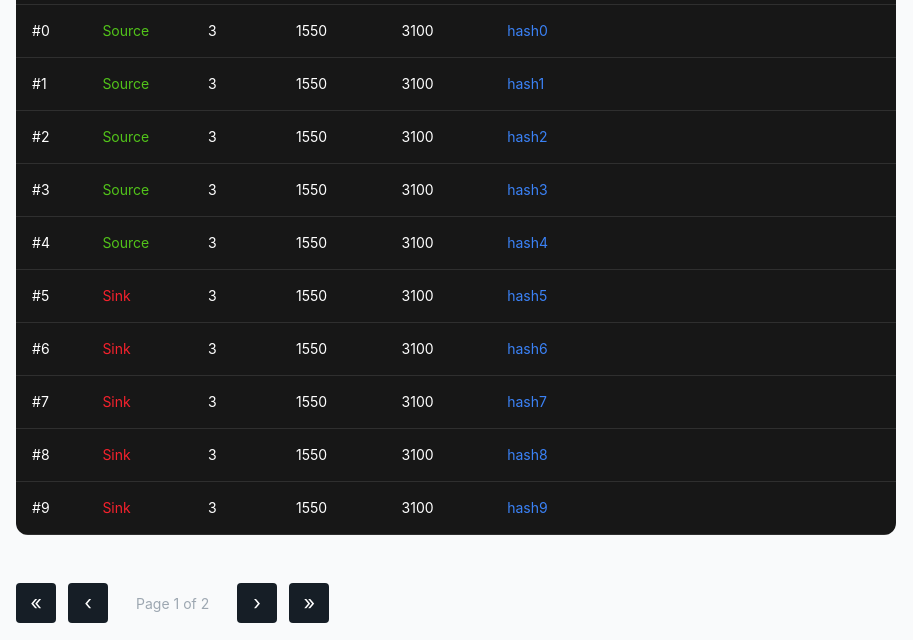
BlocksList › handles pagination correctly
(page scrolled)
Expected: the text "Page 1 of 2" is shown, [136, 592, 209, 614]
Go to next page
Click the button "›": click(257, 603) [237, 583, 277, 623]
(page scrolled)
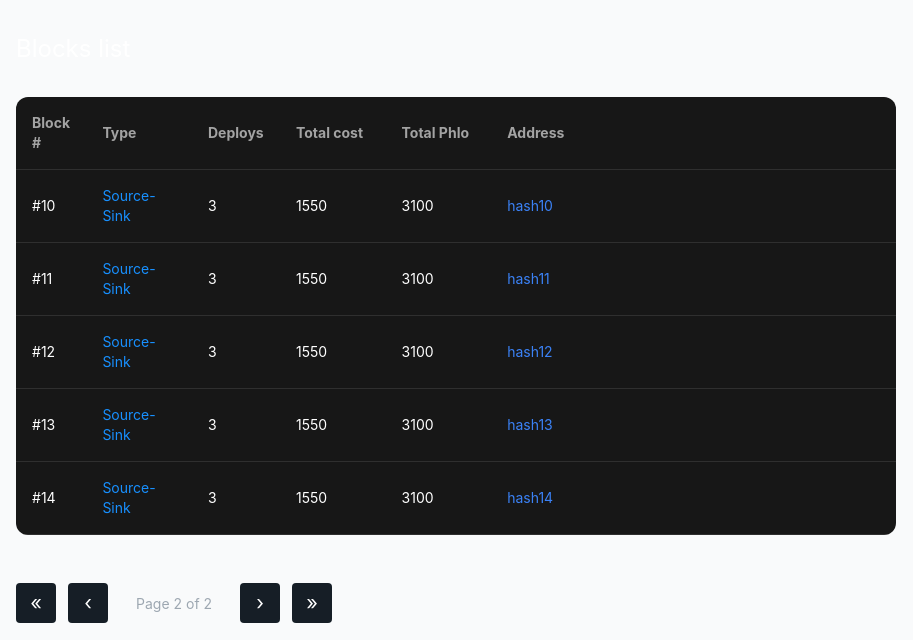
Now the text "Page 2 of 2" is shown, box [136, 592, 212, 614]
Go back to first page
Click the button "«": click(36, 603) [16, 583, 56, 623]
(page scrolled)
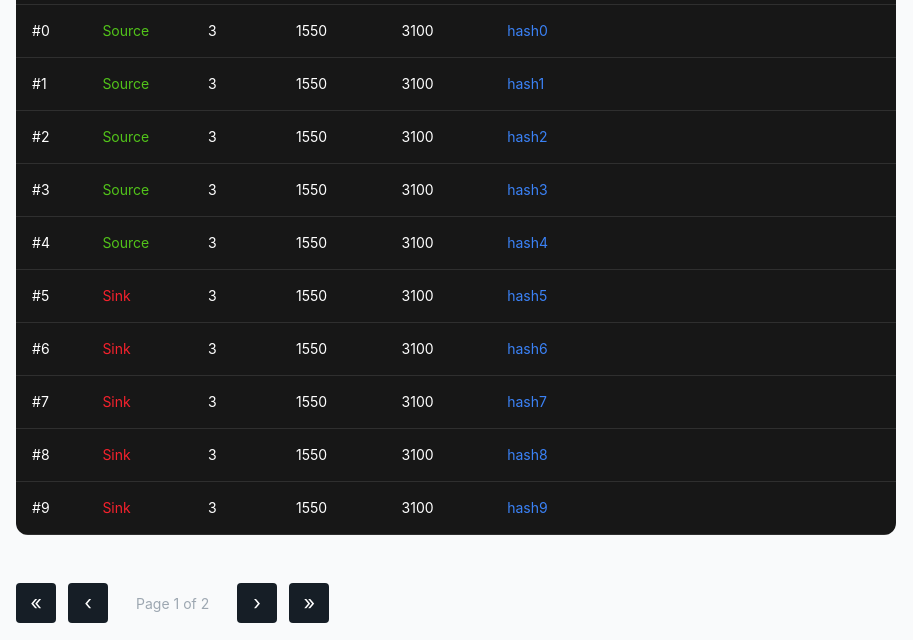
Now the text "Page 1 of 2" is shown, box [136, 592, 209, 614]
Go to last page
Click the button "»": click(309, 603) [289, 583, 329, 623]
(page scrolled)
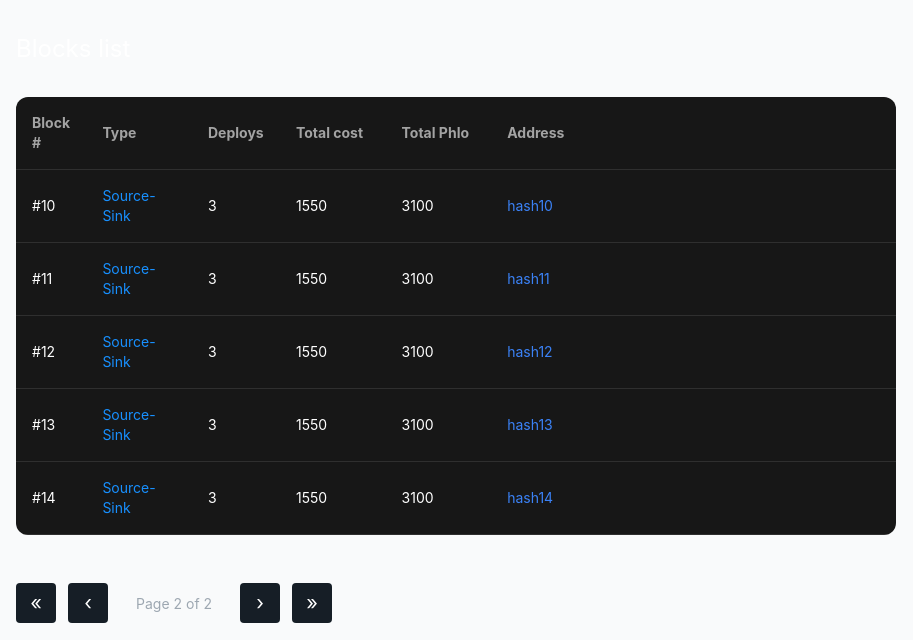
Now the text "Page 2 of 2" is shown, box [136, 592, 212, 614]
Go to previous page
Click the button "‹": click(88, 603) [68, 583, 108, 623]
(page scrolled)
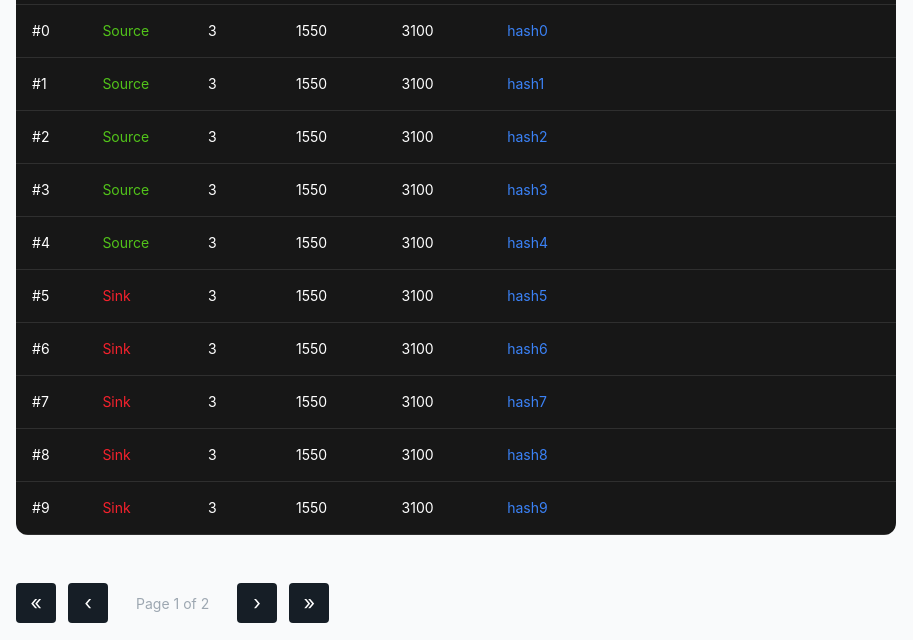
Now the text "Page 1 of 2" is shown, box [136, 592, 209, 614]
